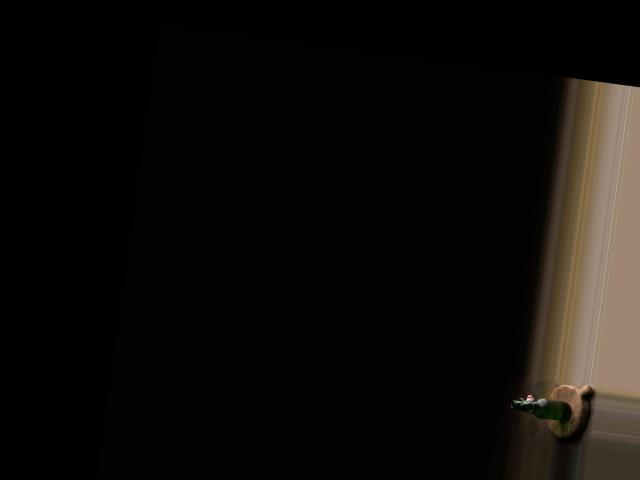beer: (508, 394, 570, 421)
